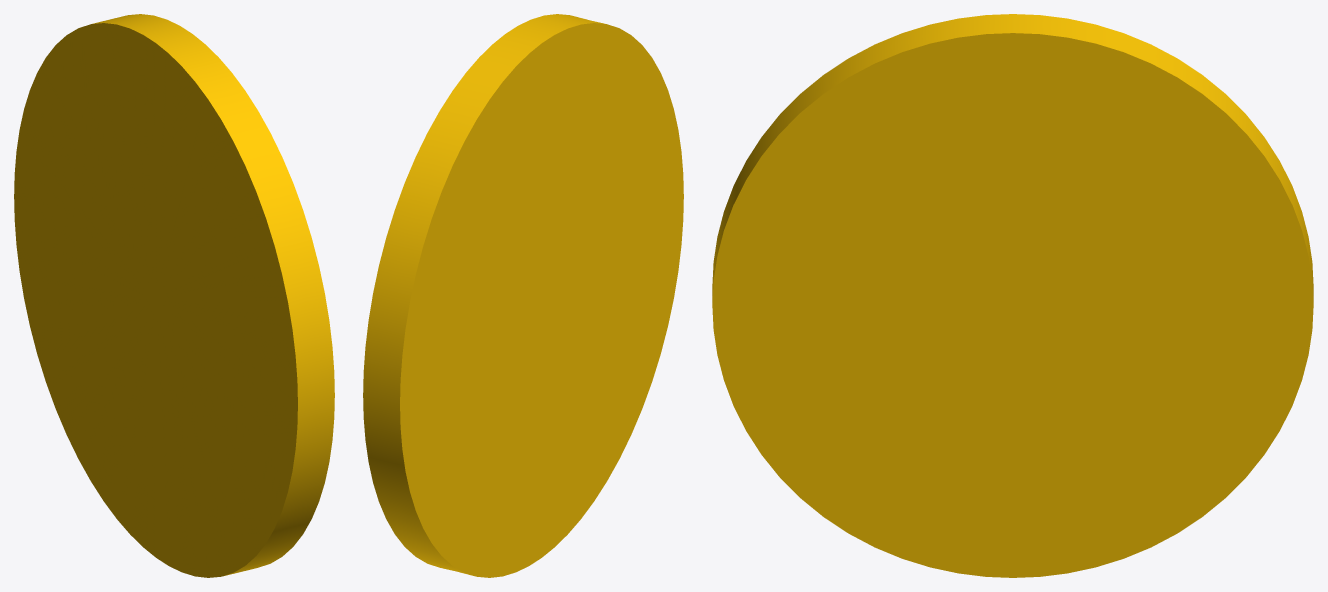
The model's file is Pupil.glb.
The picture shows the model from 3 angles, left to right: view 1: azimuth 30°, elevation 25°; view 2: azimuth 150°, elevation 25°; view 3: azimuth 270°, elevation 25°; orthographic projection. The views are drawn at different scales.
Bounding box in the file's own units: 0.003 × 0.04 × 0.04.
